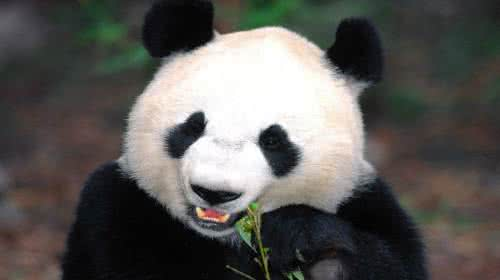panda: (60, 1, 433, 280)
